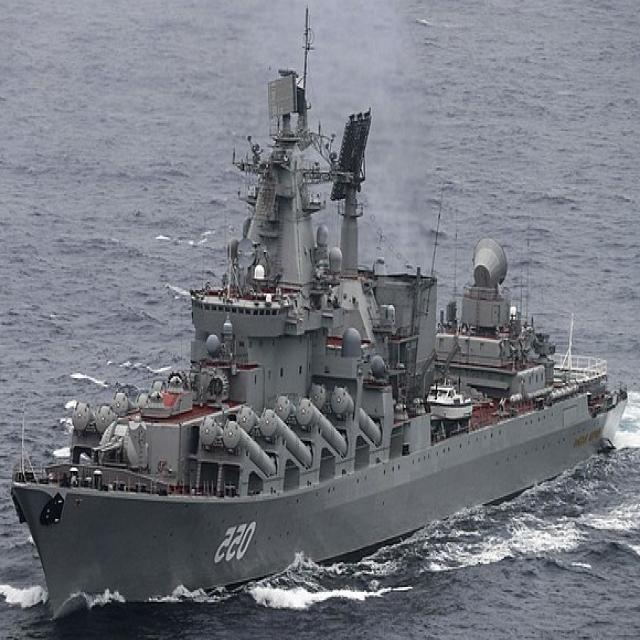navalvessels: (16, 45, 624, 626)
